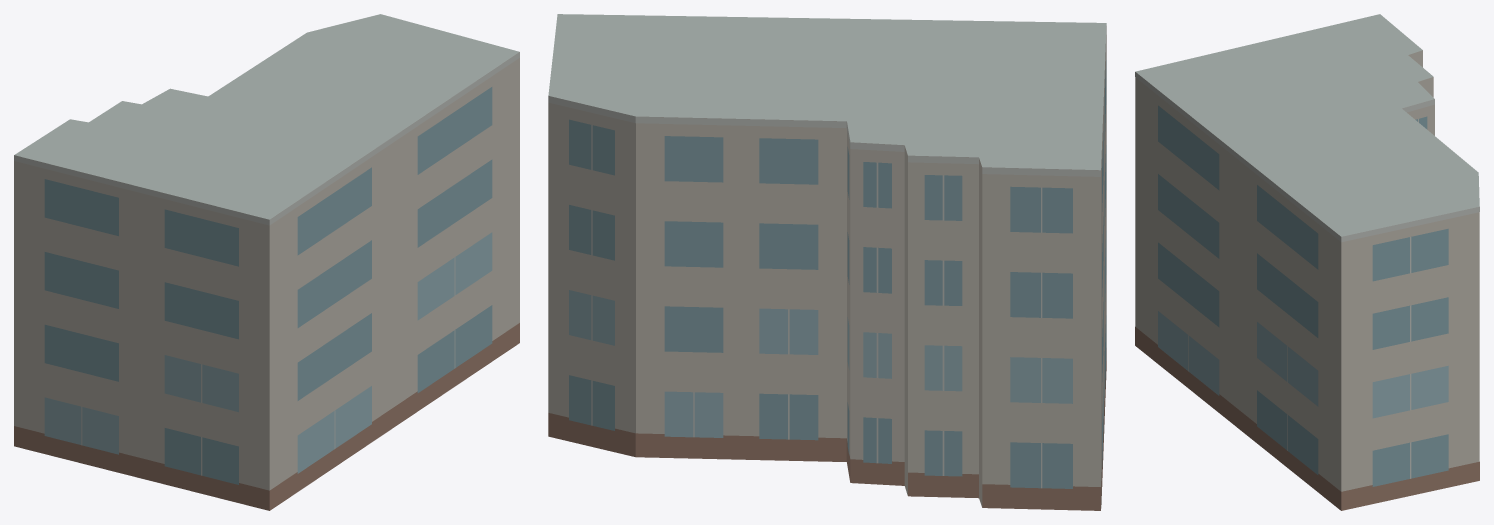
The model's file is survey-upis-32962381.glb.
3 renders of one model, left to right at view 1: azimuth 30°, elevation 25°; view 2: azimuth 150°, elevation 25°; view 3: azimuth 270°, elevation 25°, orthographic. The views are drawn at different scales.
Visible parts, largest first — view 1: survey-upis-32962381.tmp; view 2: survey-upis-32962381.tmp; view 3: survey-upis-32962381.tmp.
Part boxes in pixels (<box>): survey-upis-32962381.tmp: <box>14,14,519,510</box>; survey-upis-32962381.tmp: <box>548,14,1106,510</box>; survey-upis-32962381.tmp: <box>1135,14,1479,510</box>.
Bounding box in the file's own units: 21.28 × 12.2 × 13.91.
